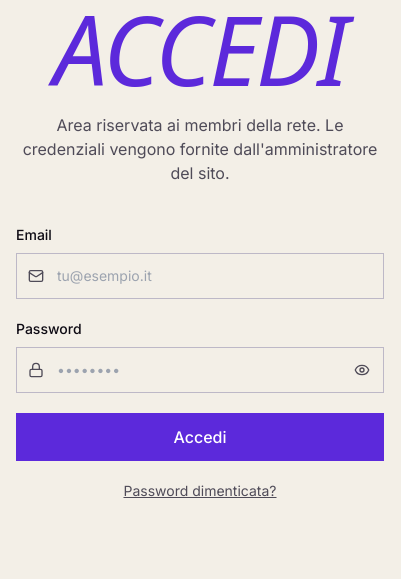
it: Login › shows error message on failed login
Type "test@test.com" into the field with placeholder "tu@esempio.it" at (200, 276), box [16,253,384,299]
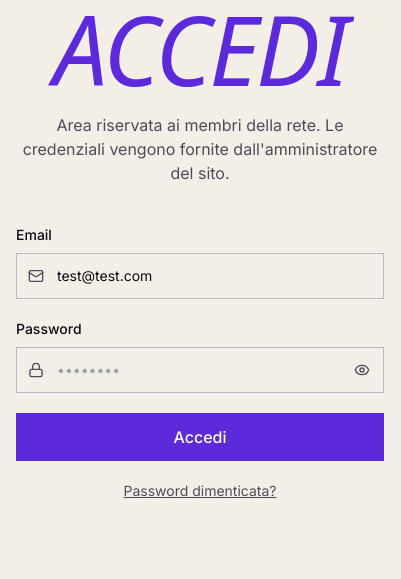
Type "wrongpass" into the password field with placeholder "••••••••" at (200, 370), box [16,347,384,393]
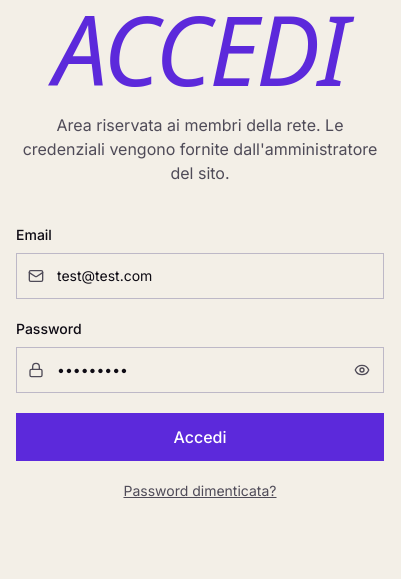
Click the button "Accedi" at (200, 437), box [16,413,384,461]
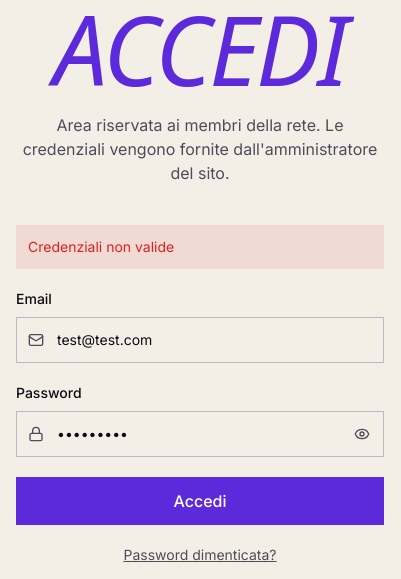
Now the text "Credenziali non valide" is shown, box [16,225,384,269]
